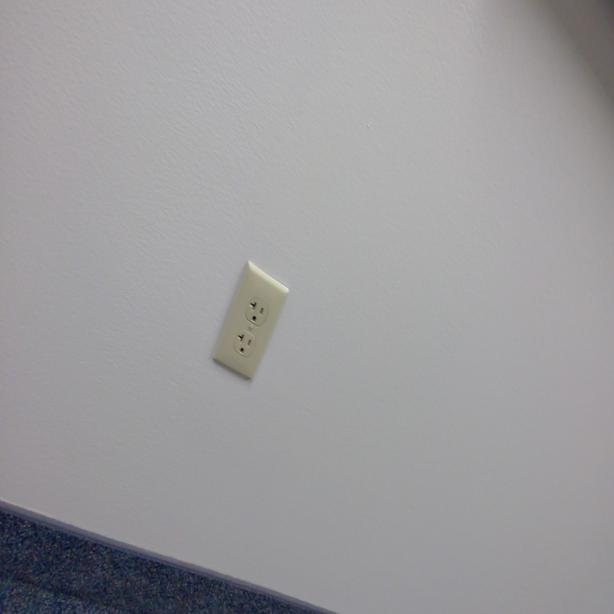typeb: (234, 329, 255, 363), (245, 294, 267, 326)
